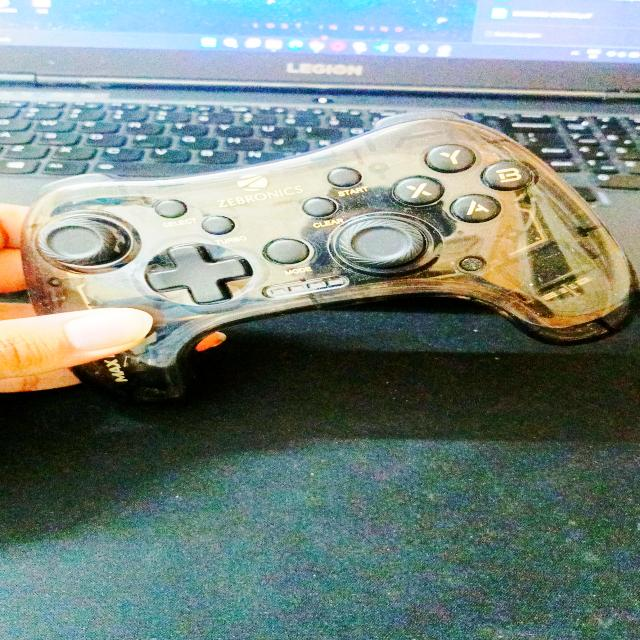gamepad: (18, 111, 635, 404)
